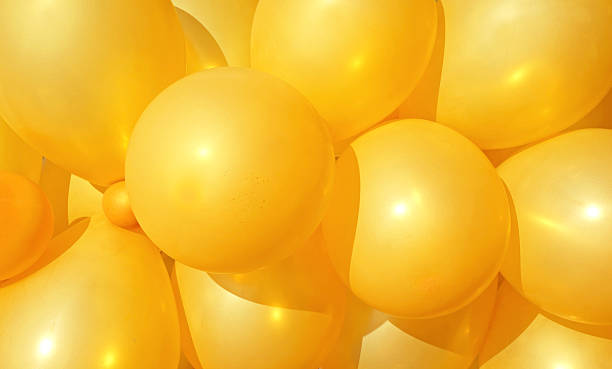Balloon: (126, 67, 333, 268), (325, 117, 512, 317), (1, 1, 184, 179), (412, 1, 612, 137), (1, 226, 178, 369), (251, 1, 437, 127), (498, 128, 612, 323)
